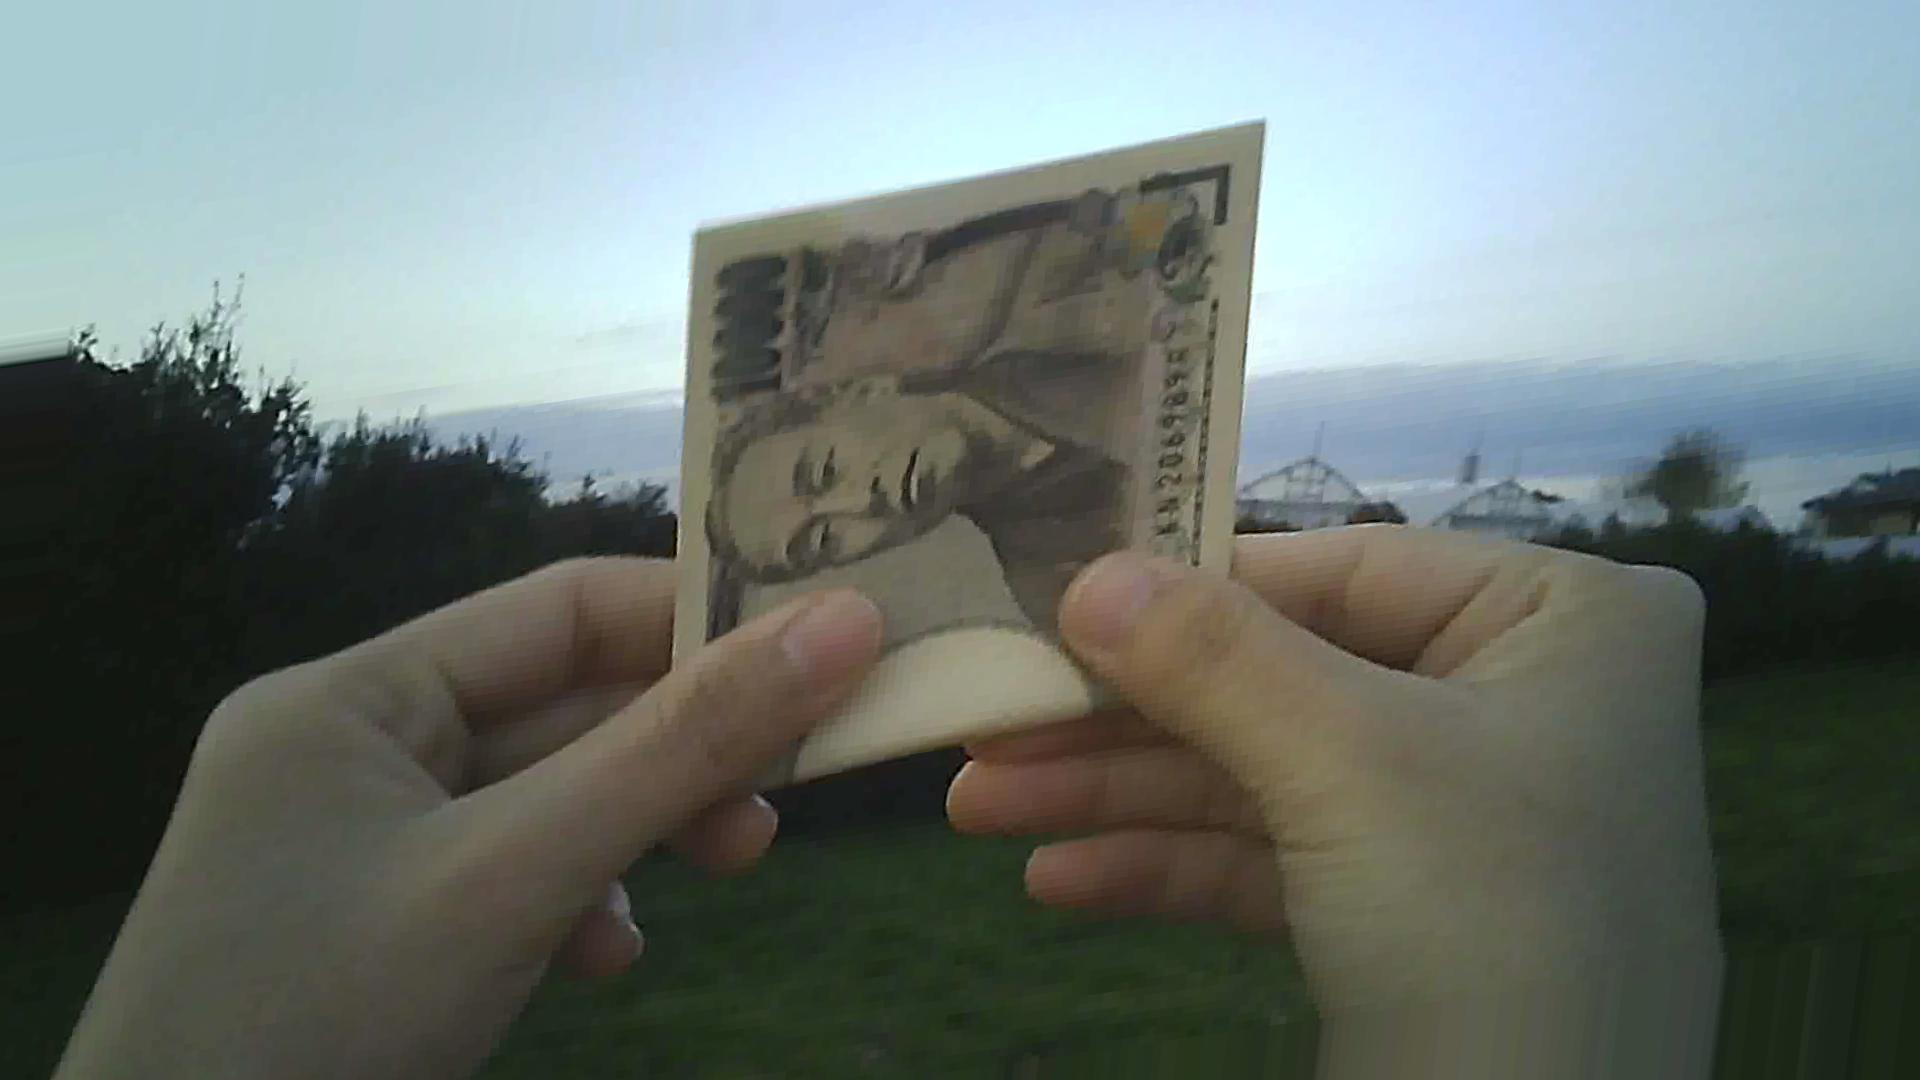10,000 Yen: (662, 98, 1279, 806)
